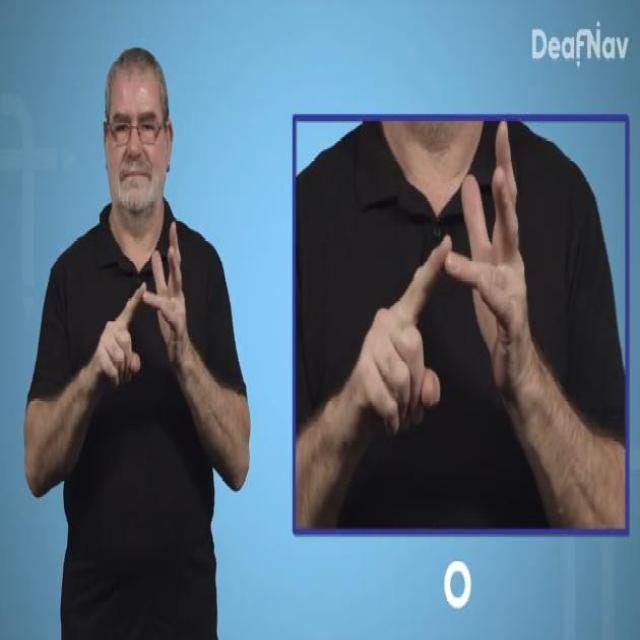O: (358, 115, 531, 446), (93, 220, 191, 404)
